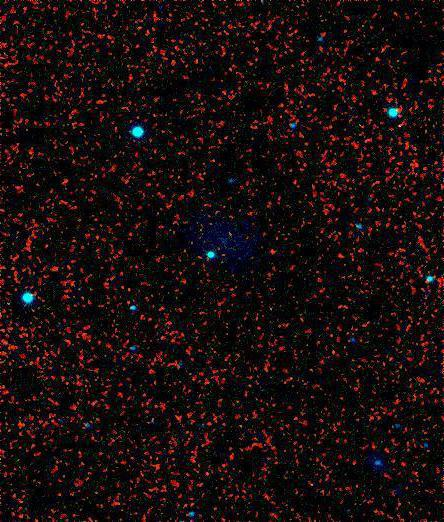star: (389, 113, 419, 143)
